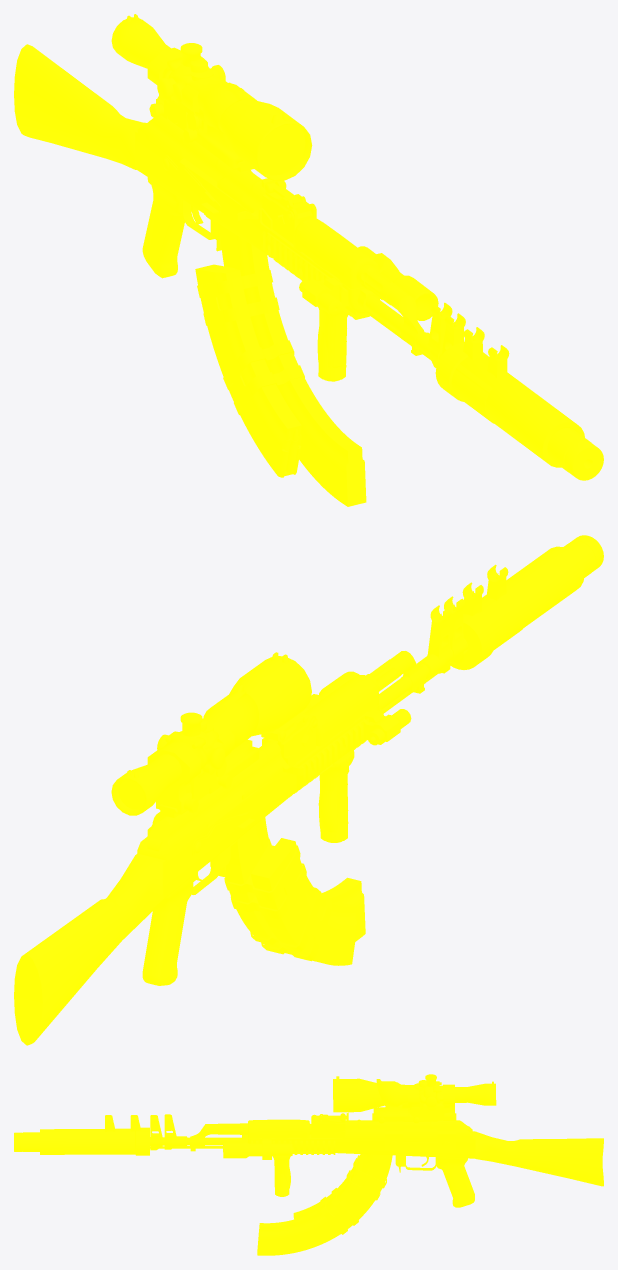
3 views of the same model, one above another, from view 1: azimuth 30°, elevation 25°; view 2: azimuth 150°, elevation 25°; view 3: azimuth 270°, elevation 25° (orthographic). The views are drawn at different scales.
Visible parts, largest first — view 1: metal, double_magazine, wood, scope, extended_magazine, silencer01, acog, magazine, handle, silencer03, silencer02, bottom_frame (+8 smaller); view 2: metal, wood, scope, double_magazine, silencer01, acog, handle, silencer03, extended_magazine, bottom_frame, barrel, magazine (+7 smaller); view 3: metal, wood, double_magazine, scope, silencer01, extended_magazine, acog, top_frame, handle, flash_light, bottom_frame, barrel (+6 smaller).
Part boxes in pixels (x1,y1,x2,y2): metal: (135, 116, 424, 355); double_magazine: (195, 264, 304, 477); wood: (14, 44, 369, 287); scope: (111, 14, 312, 180); extended_magazine: (272, 354, 366, 506); silencer01: (453, 355, 584, 467); acog: (162, 49, 256, 169); magazine: (219, 224, 293, 399); handle: (142, 177, 191, 278); silencer03: (435, 342, 493, 423); silencer02: (547, 428, 603, 480); bottom_frame: (261, 231, 382, 319); metal: (135, 651, 426, 899); wood: (14, 676, 376, 1045); scope: (111, 652, 311, 815); double_magazine: (224, 838, 356, 965); silencer01: (463, 546, 584, 650); acog: (164, 684, 259, 793); handle: (142, 873, 195, 985); silencer03: (450, 597, 527, 669); extended_magazine: (225, 840, 365, 954); bottom_frame: (290, 709, 383, 796); barrel: (379, 605, 452, 711); magazine: (237, 796, 290, 953); metal: (190, 1112, 475, 1172); wood: (251, 1119, 603, 1186); double_magazine: (293, 1154, 392, 1237); scope: (333, 1074, 496, 1120); silencer01: (40, 1128, 135, 1154); extended_magazine: (257, 1197, 338, 1255); acog: (373, 1079, 453, 1123); top_frame: (372, 1113, 456, 1149); handle: (436, 1157, 474, 1207); flash_light: (223, 1138, 293, 1159); bottom_frame: (251, 1140, 335, 1154); barrel: (164, 1114, 241, 1149).
Size of the model in its own units: 18.94 by 66.4 by 200.
14 materials, 14 textured.
